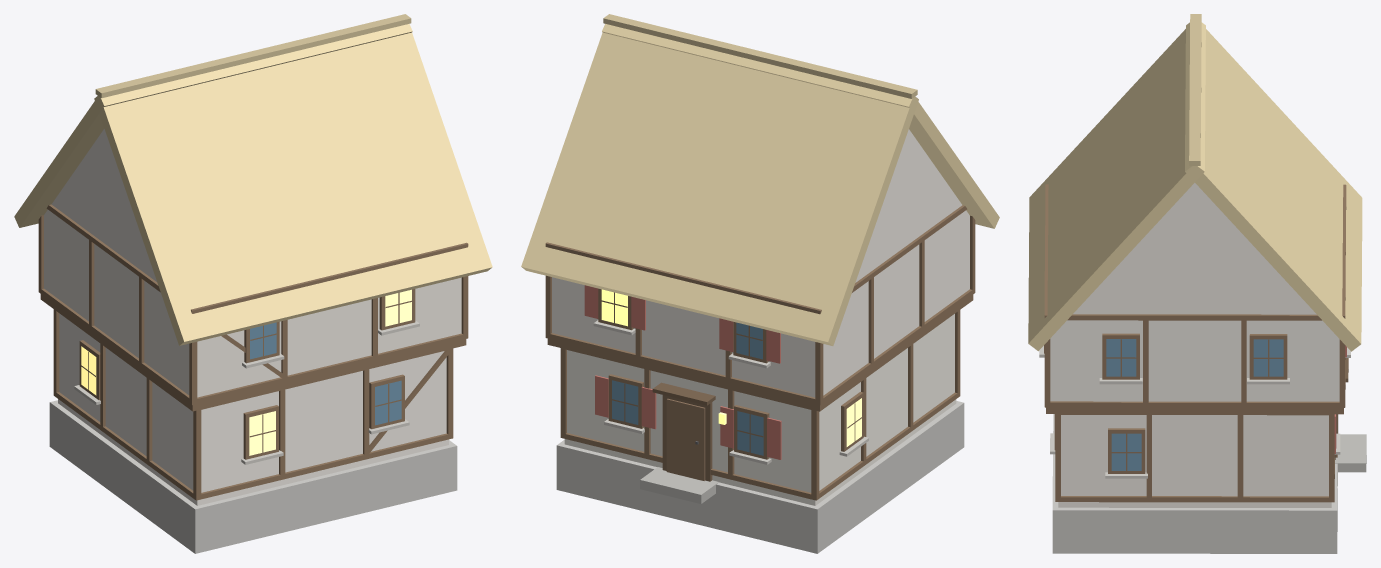
The model's file is struct_3_9.glb.
The picture shows the model from 3 angles, left to right: view 1: azimuth 30°, elevation 25°; view 2: azimuth 150°, elevation 25°; view 3: azimuth 270°, elevation 25°; orthographic projection. The views are drawn at different scales.
Parts seen in each view (by area): view 1: HousesNear; view 2: HousesNear; view 3: HousesNear.
Boxes of the visible parts, left/top/right/bottom form: HousesNear: left=14, top=14, right=492, bottom=553; HousesNear: left=521, top=14, right=999, bottom=553; HousesNear: left=1028, top=14, right=1366, bottom=553.
Size of the model in its own units: 9.07 by 11.63 by 8.82.
